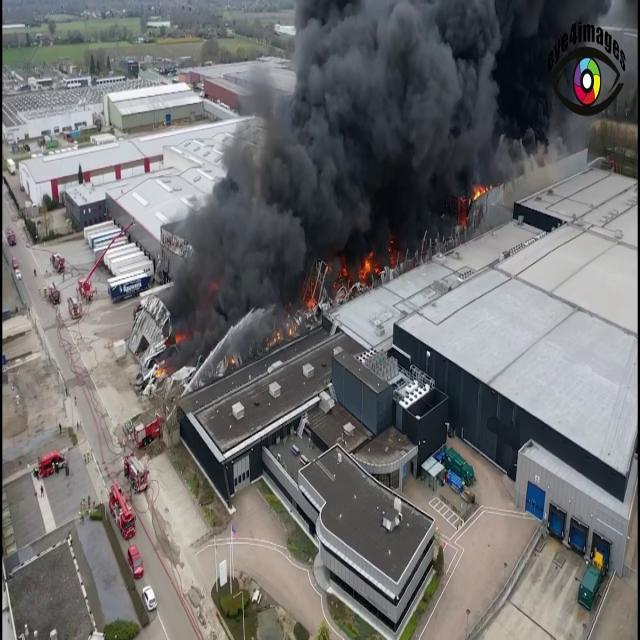Fire: (470, 178, 496, 202)
Smoke: (165, 1, 576, 222), (165, 2, 386, 374)
